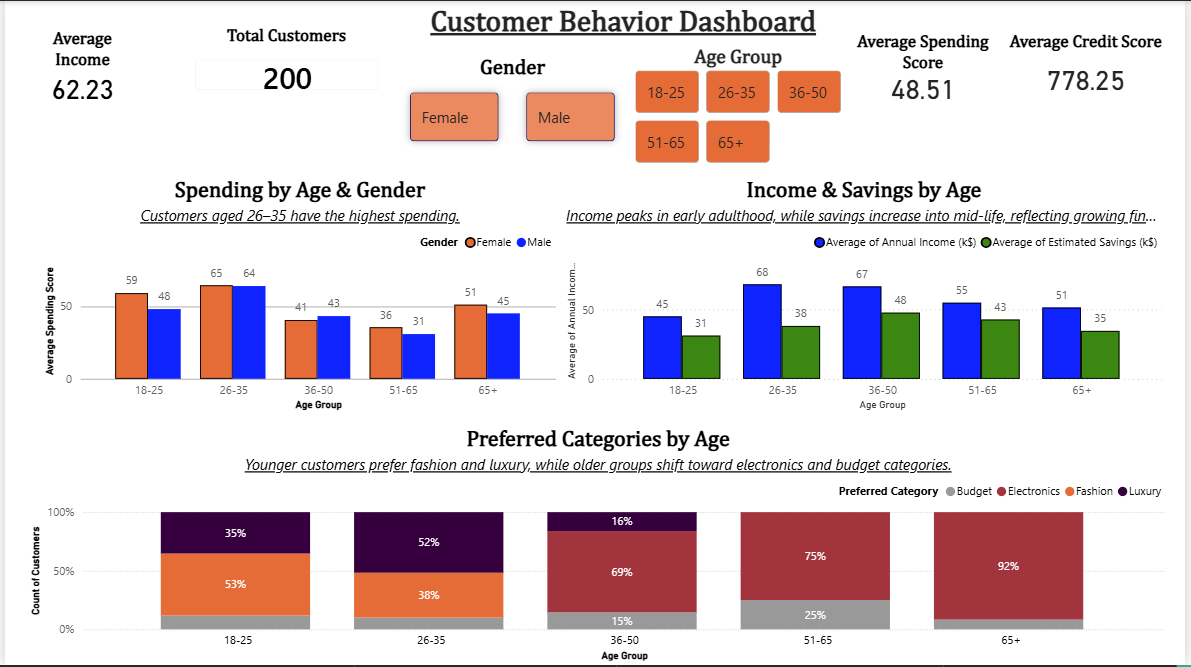

What the dashboard file says about the page in this screenshot:
{"tool":"powerbi","page":{"name":"Customer Dashboard","canvas":[1280,720],"ordinal":3},"visuals":[{"type":"clusteredColumnChart","title":"Spending by Age & Gender","fields":{"Category":["Mall_Customers_Enhanced.Age Group"],"Y":["Avg(Mall_Customers_Enhanced.Spending Score (1-100))"],"Series":["Mall_Customers_Enhanced.Gender"]},"box":[38.1,192.2,564.9,256.8],"z":0},{"type":"clusteredColumnChart","title":"Income & Savings by Age","fields":{"Category":["Mall_Customers_Enhanced.Age Group"],"Y":["Avg(Mall_Customers_Enhanced.Annual Income (k$))","Avg(Mall_Customers_Enhanced.Estimated Savings (k$))"]},"box":[603,192.2,656,256.8],"z":1000},{"type":"hundredPercentStackedColumnChart","title":"Preferred Categories by Age","fields":{"Category":["Mall_Customers_Enhanced.Age Group"],"Y":["CountNonNull(Mall_Customers_Enhanced.CustomerID)"],"Series":["Mall_Customers_Enhanced.Preferred Category"]},"box":[22.6,461.6,1240.7,258.4],"z":2000},{"type":"advancedSlicerVisual","title":" Gender","fields":{"Values":["Mall_Customers_Enhanced.Gender"]},"box":[422.4,59.6,255.1,107.7],"z":3000},{"type":"textbox","box":[61.3,0,985.6,56.3],"z":4000},{"type":"kpi","title":"Average Spending Score","fields":{"Indicator":["Avg(Mall_Customers_Enhanced.Spending Score (1-100))"],"TrendLine":["Mall_Customers_Enhanced.Gender"]},"box":[911.1,34.8,169,86.1],"z":5000},{"type":"kpi","title":"Average Credit Score","fields":{"TrendLine":["Mall_Customers_Enhanced.Age Group"],"Indicator":["Avg(Mall_Customers_Enhanced.Credit Score)"]},"box":[1080,34.8,183.9,86.1],"z":6000},{"type":"kpi","title":"Average Income","fields":{"TrendLine":["Mall_Customers_Enhanced.Gender"],"Indicator":["Avg(Mall_Customers_Enhanced.Annual Income (k$))"]},"box":[23.2,31.5,122.6,92.8],"z":7000},{"type":"cardVisual","title":"Total Customers","fields":{"Data":["Count(Mall_Customers_Enhanced.CustomerID)"]},"box":[188.8,28.2,233.6,86.1],"z":8000},{"type":"advancedSlicerVisual","fields":{"Values":["Mall_Customers_Enhanced.Age Group"]},"box":[677.5,48,233.6,132.5],"z":9000}]}

Visuals, with their boxes in screenshot pixels (x1, y1, x2, y2), scaled from the page's 1280x720 canvas onto the 1191x667 screenshot:
"Spending by Age & Gender" clusteredColumnChart: 35:178:561:416
"Income & Savings by Age" clusteredColumnChart: 561:178:1171:416
"Preferred Categories by Age" hundredPercentStackedColumnChart: 21:428:1175:666
" Gender" advancedSlicerVisual: 393:55:630:155
textbox: 57:0:974:52
"Average Spending Score" kpi: 848:32:1005:112
"Average Credit Score" kpi: 1005:32:1176:112
"Average Income" kpi: 22:29:136:115
"Total Customers" cardVisual: 176:26:393:106
advancedSlicerVisual - Mall_Customers_Enhanced.Age Group: 630:44:848:167
